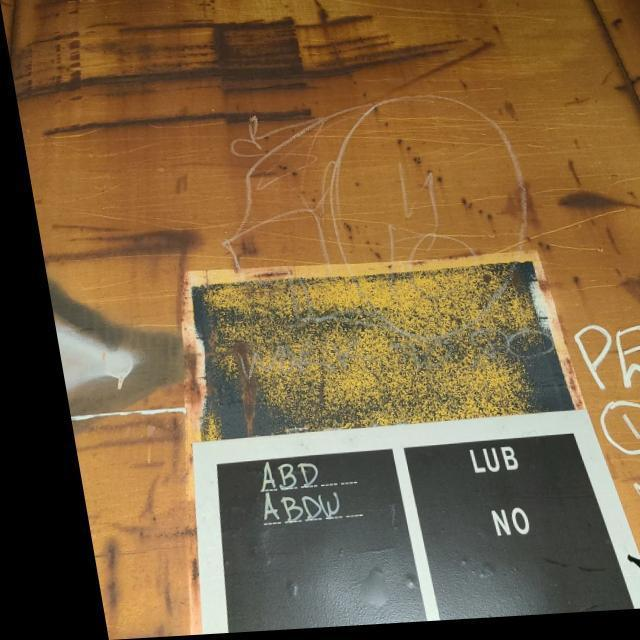-: (154, 61, 559, 385), (550, 324, 640, 616), (416, 428, 552, 574), (195, 450, 362, 536)
